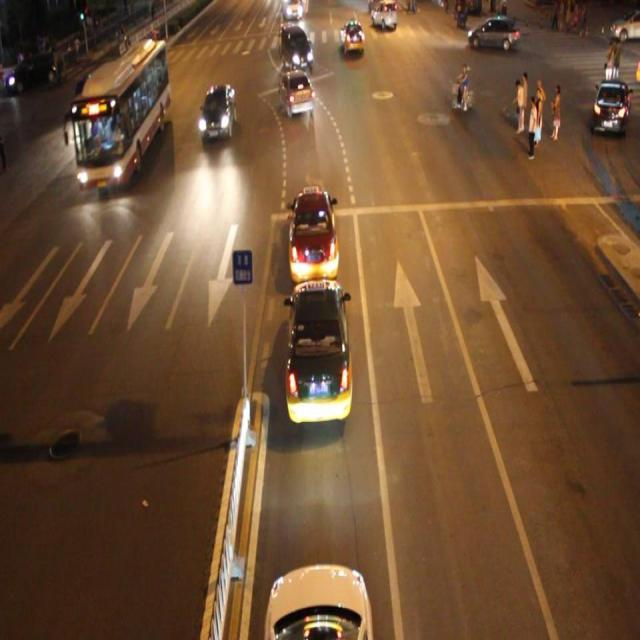car: (285, 276, 352, 420), (262, 557, 373, 640), (287, 188, 339, 284), (198, 84, 236, 139), (279, 70, 314, 117), (280, 28, 314, 75), (340, 19, 365, 56)
van: (74, 38, 168, 184)
